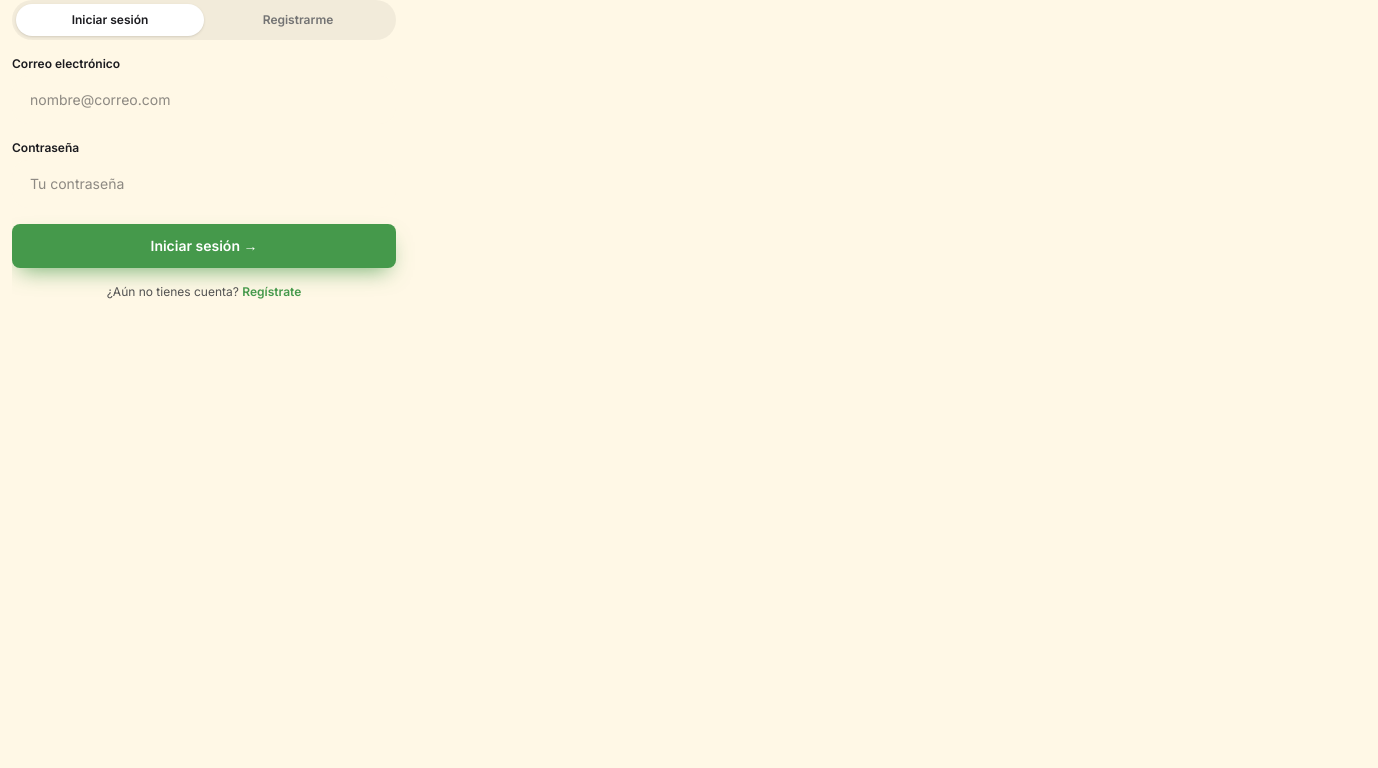
Scenario: shows the account-ready toast when register returns a session
Step 1. Click the button "Registrarme" → (298, 20), box x1=204 y1=4 x2=392 y2=36
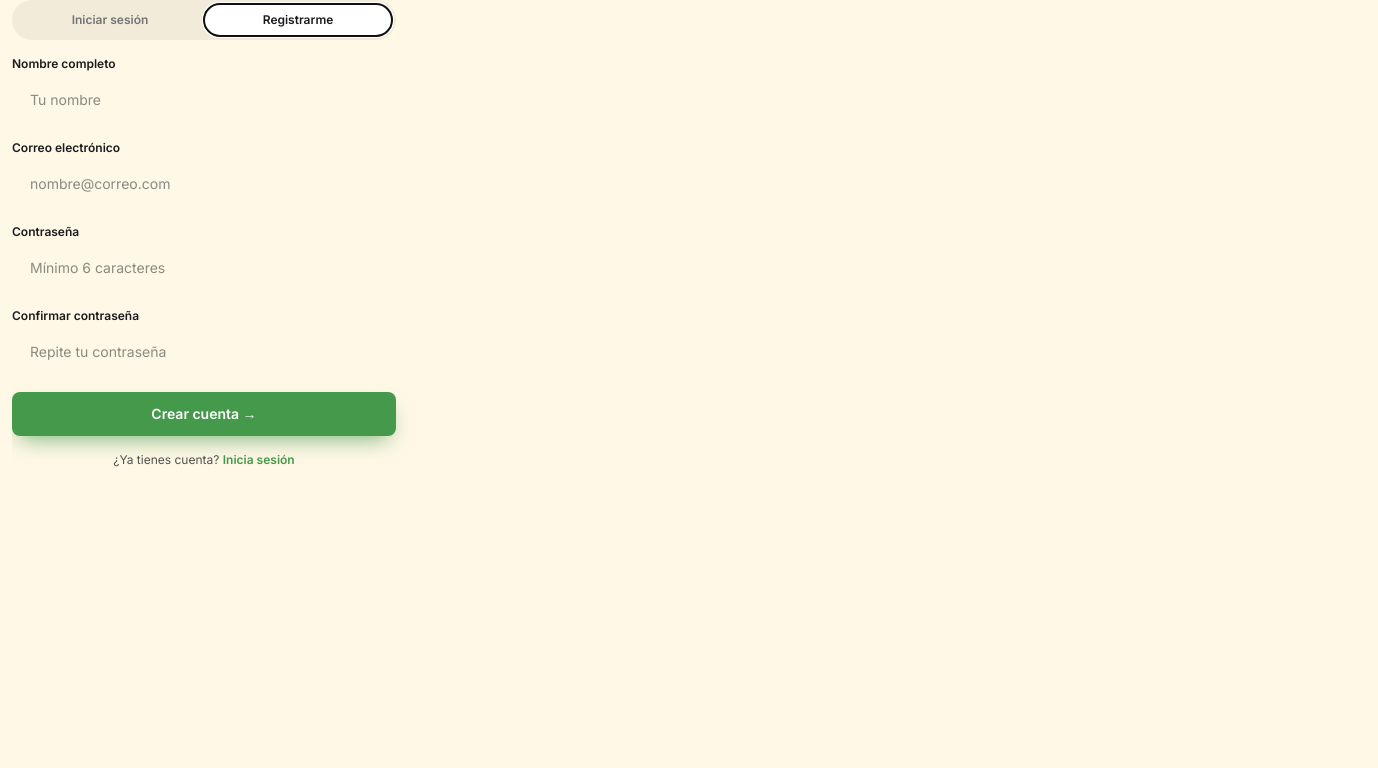
Step 2. Type "Valentina Ríos" into the field labelled "Nombre completo" → (204, 100), box x1=12 y1=76 x2=396 y2=124
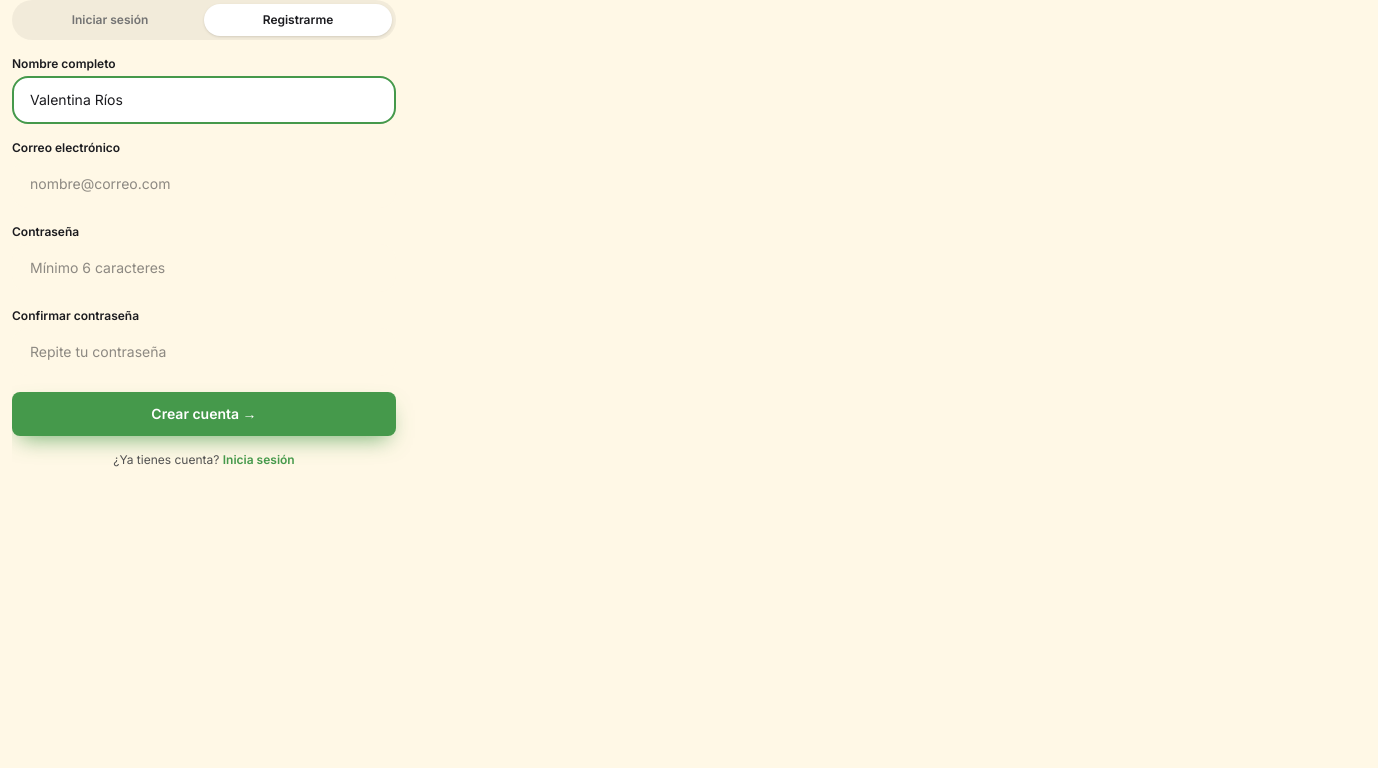
Step 3. Type "valentina@correo.com" into the field labelled "Correo electrónico" → (204, 184), box x1=12 y1=160 x2=396 y2=208
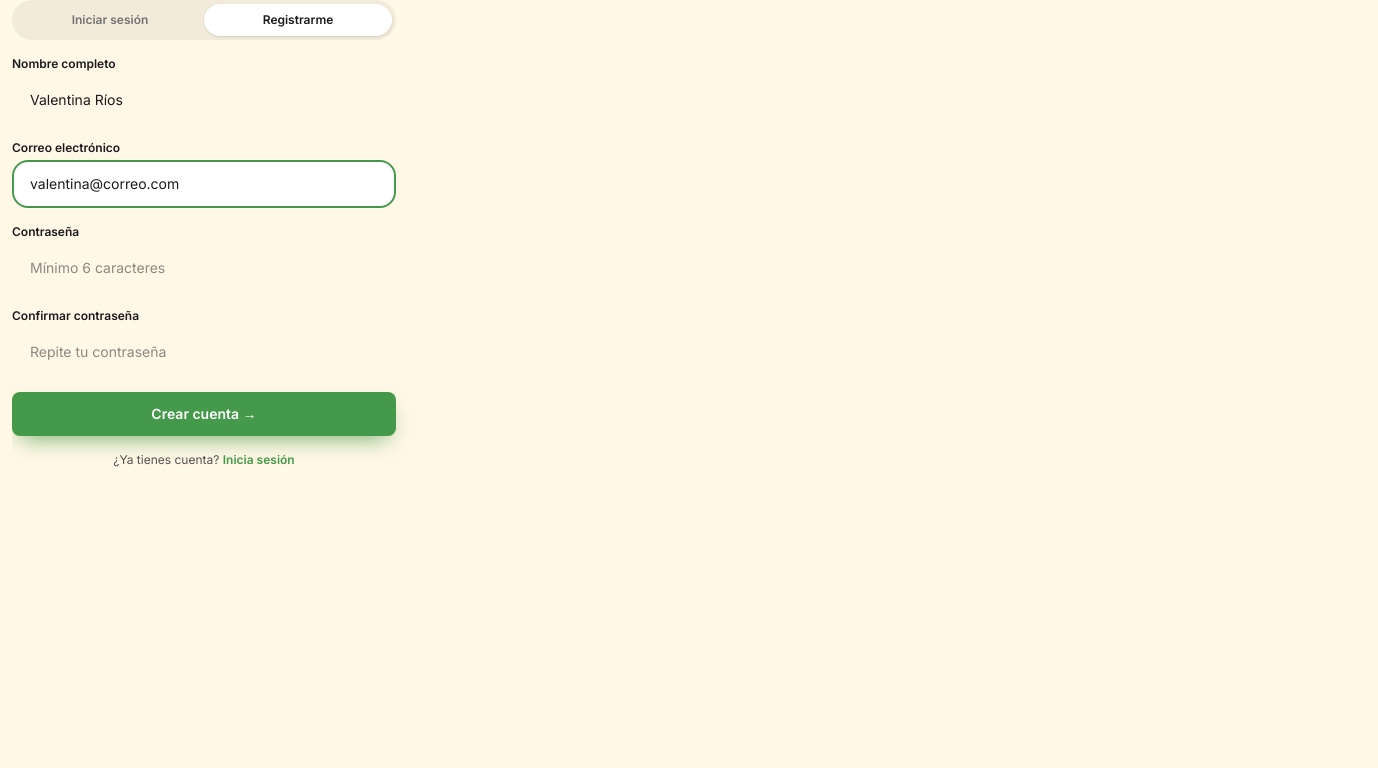
Step 4. Type "secreto1" into the password field labelled "Contraseña" → (204, 268), box x1=12 y1=244 x2=396 y2=292
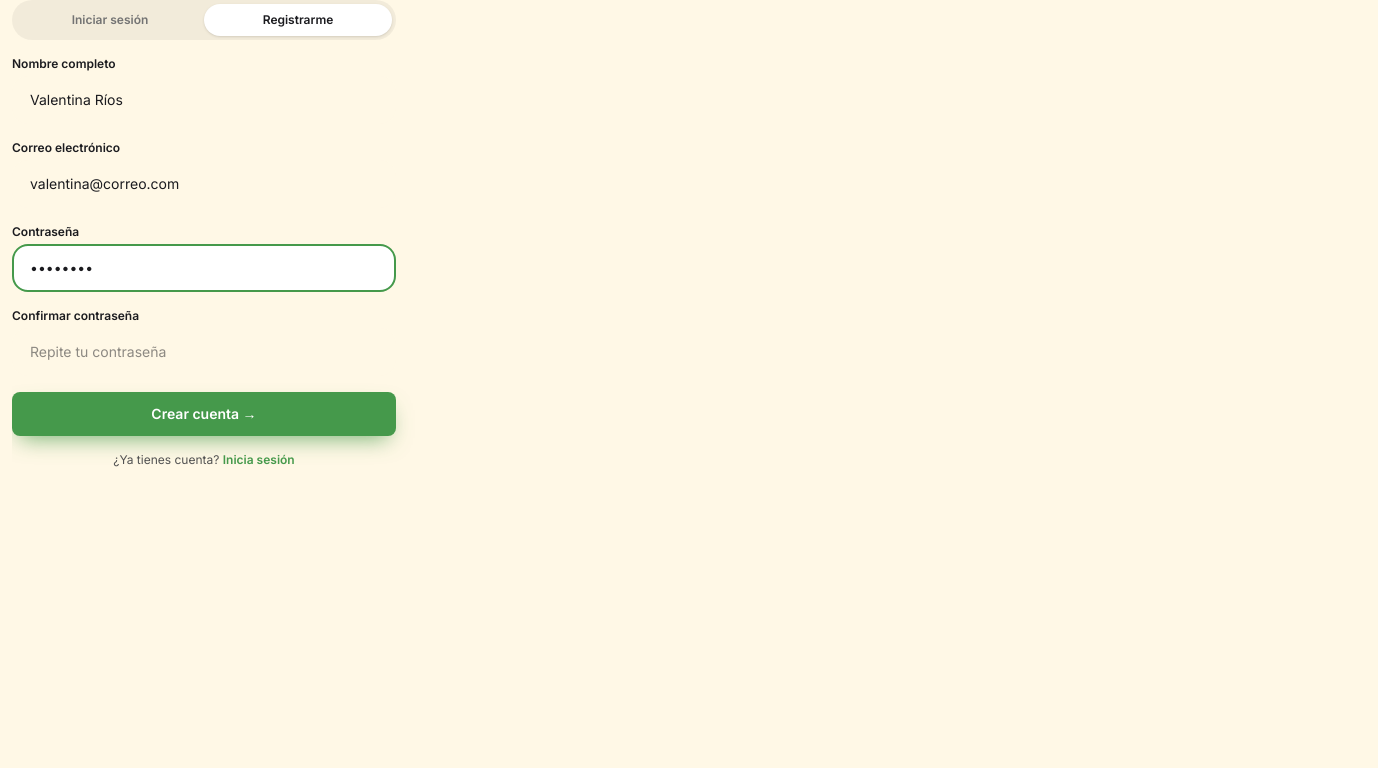
Step 5. Type "secreto1" into the password field labelled "Confirmar contraseña" → (204, 352), box x1=12 y1=328 x2=396 y2=376
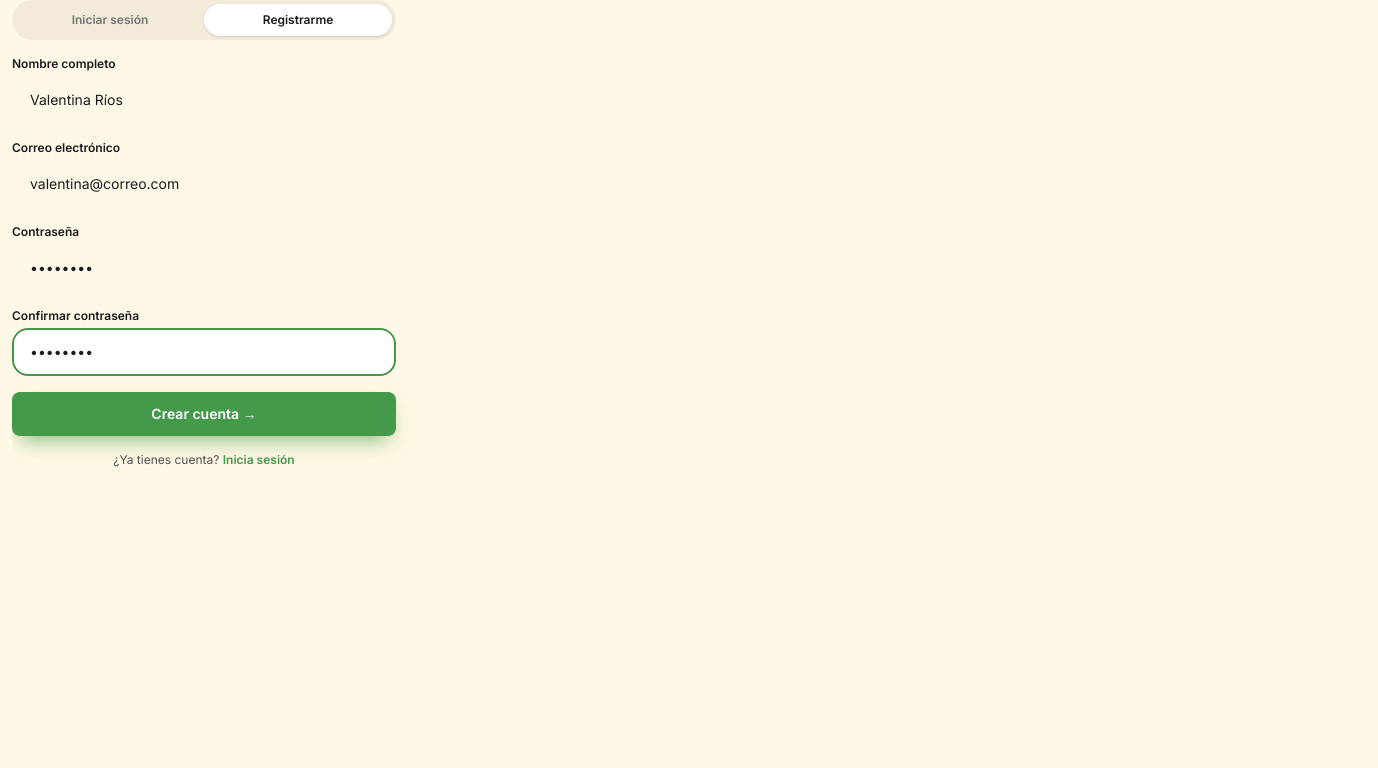
Step 6. Click the button "Crear cuenta →" → (204, 414), box x1=12 y1=392 x2=396 y2=436
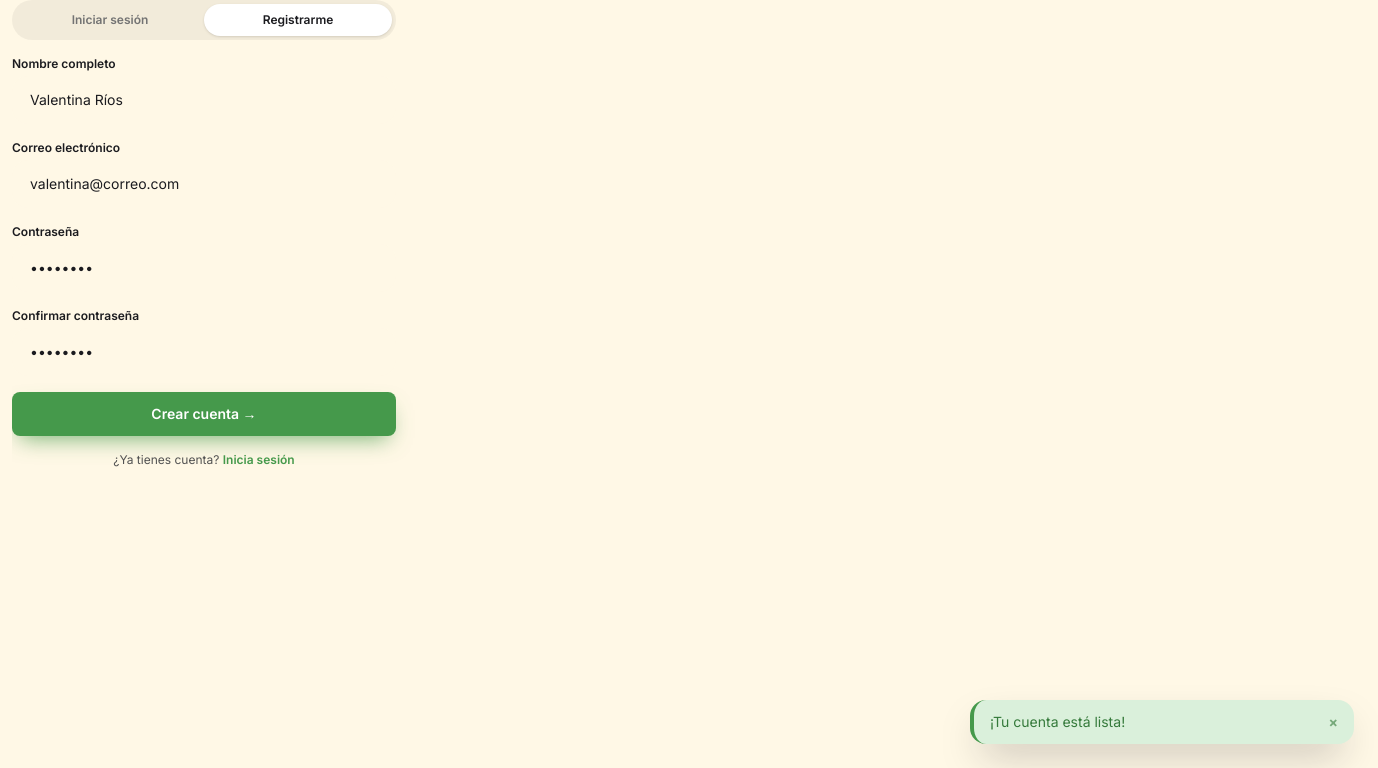
Expected: the message shows "¡Tu cuenta está lista!", x1=990 y1=713 x2=1125 y2=730
